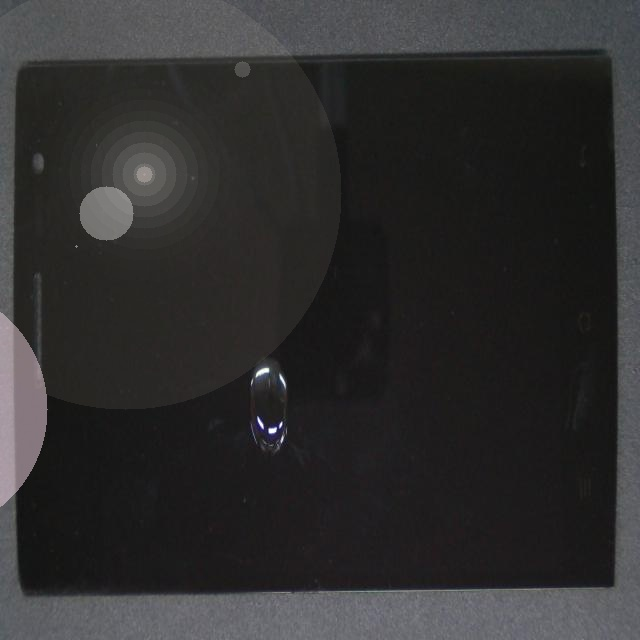oil: (161, 202, 428, 556)
